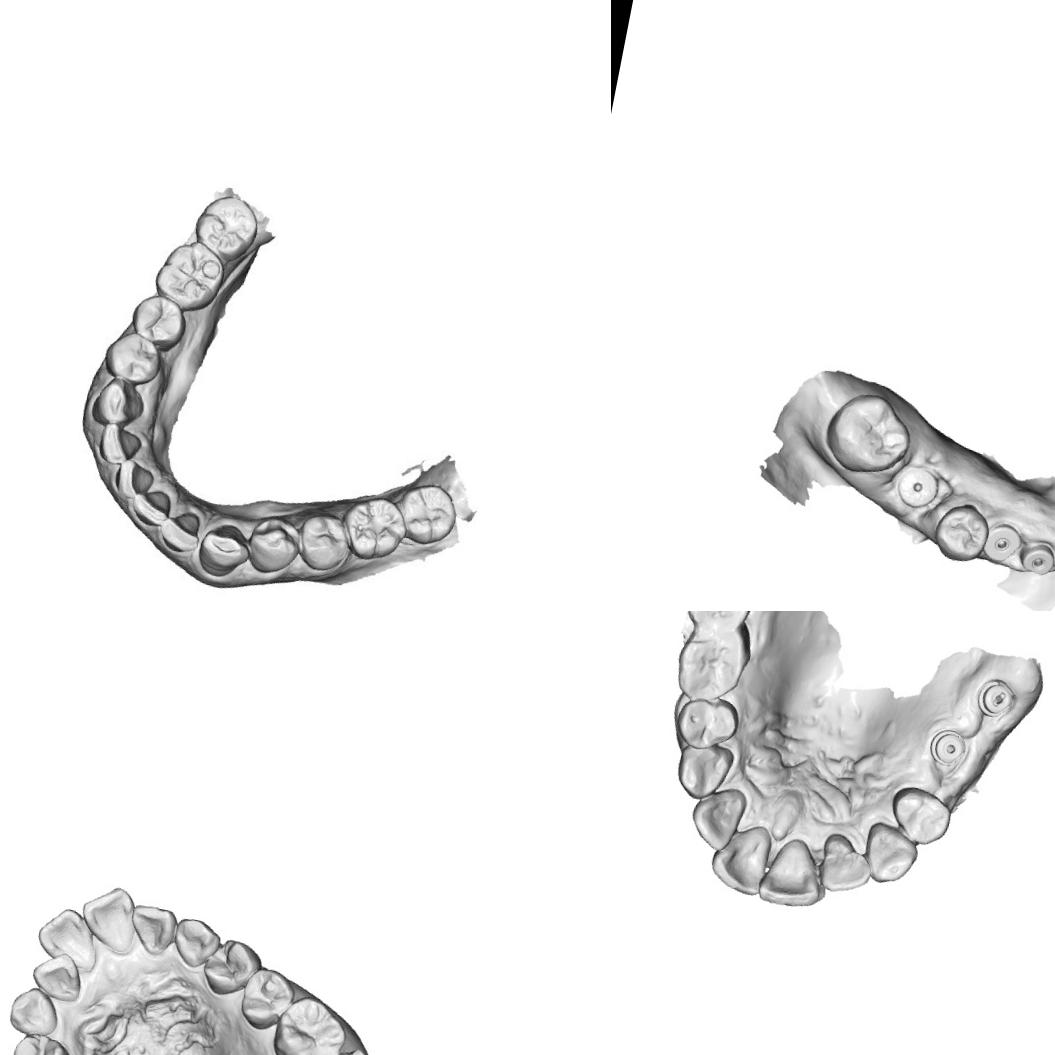canine: (857, 818, 922, 888), (671, 738, 736, 805), (191, 518, 252, 584), (168, 910, 226, 973), (4, 982, 64, 1040), (90, 370, 148, 426)
implant: (890, 462, 944, 514), (980, 518, 1024, 566), (925, 724, 969, 770), (1015, 536, 1055, 578)
implant_minus: (972, 674, 1020, 721)
incisor: (754, 832, 829, 913), (706, 816, 776, 898), (73, 878, 143, 957), (30, 902, 104, 976), (684, 780, 750, 854), (813, 830, 878, 898), (25, 946, 87, 1005), (123, 900, 182, 960), (153, 500, 202, 557), (132, 484, 174, 528), (113, 456, 156, 498), (97, 423, 139, 466)
molar: (819, 384, 918, 482), (668, 622, 756, 708), (148, 233, 224, 316), (265, 988, 354, 1055), (187, 188, 261, 262), (346, 494, 408, 562), (396, 483, 458, 545), (681, 611, 762, 637)
premolar: (882, 782, 956, 850), (196, 932, 266, 1002), (671, 690, 743, 756), (235, 962, 300, 1035), (928, 498, 994, 568), (244, 512, 302, 576), (299, 515, 350, 573), (131, 294, 184, 345), (105, 334, 160, 382), (7, 1030, 77, 1055)
